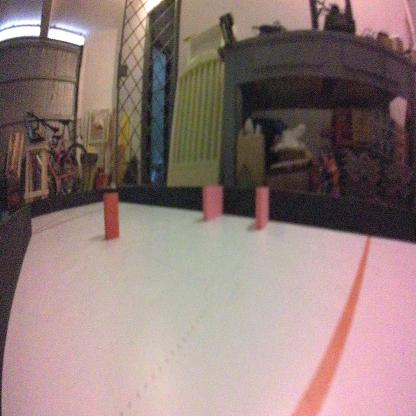magenta: (200, 183, 224, 223), (253, 184, 270, 235)
red: (101, 186, 119, 242)
